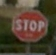stop: (11, 9, 48, 43)
